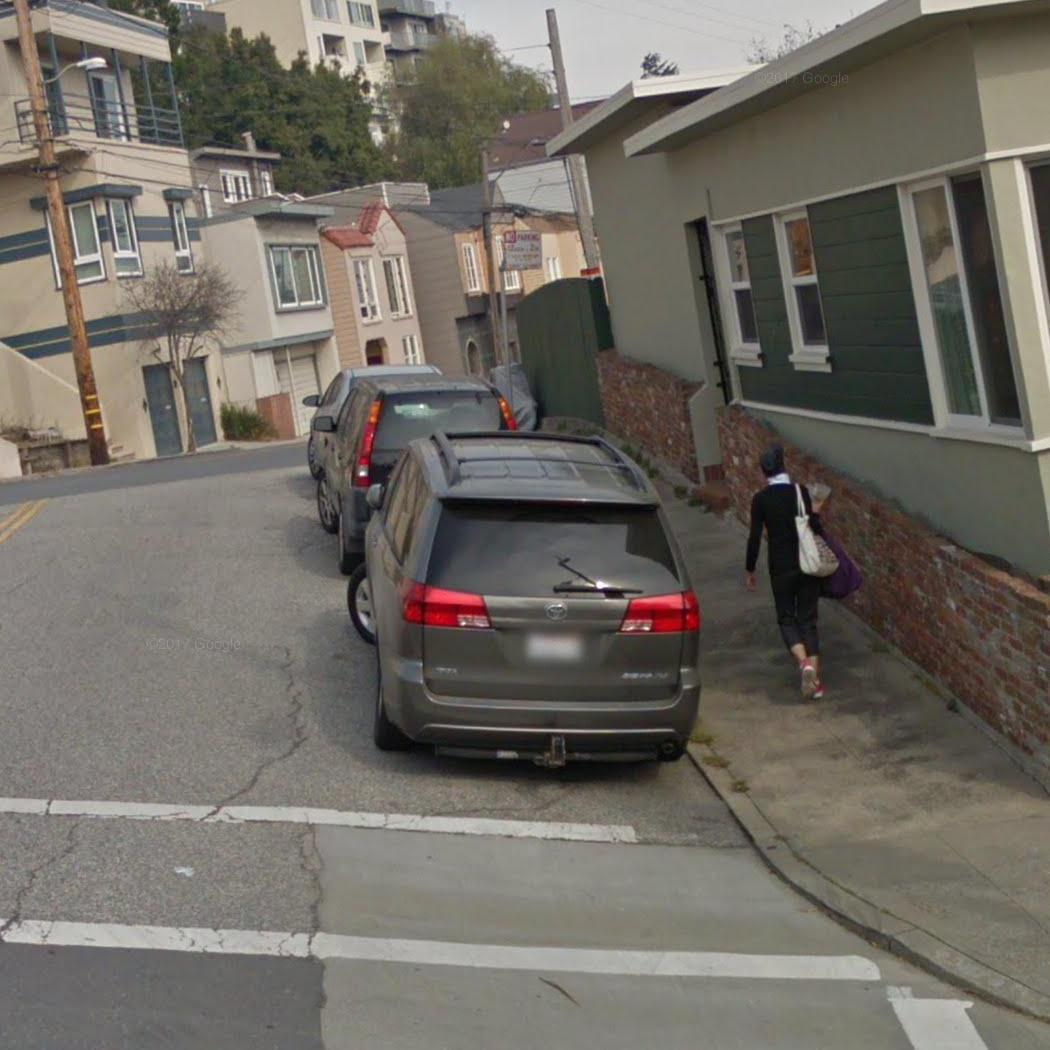No Parking: (499, 225, 550, 269)
